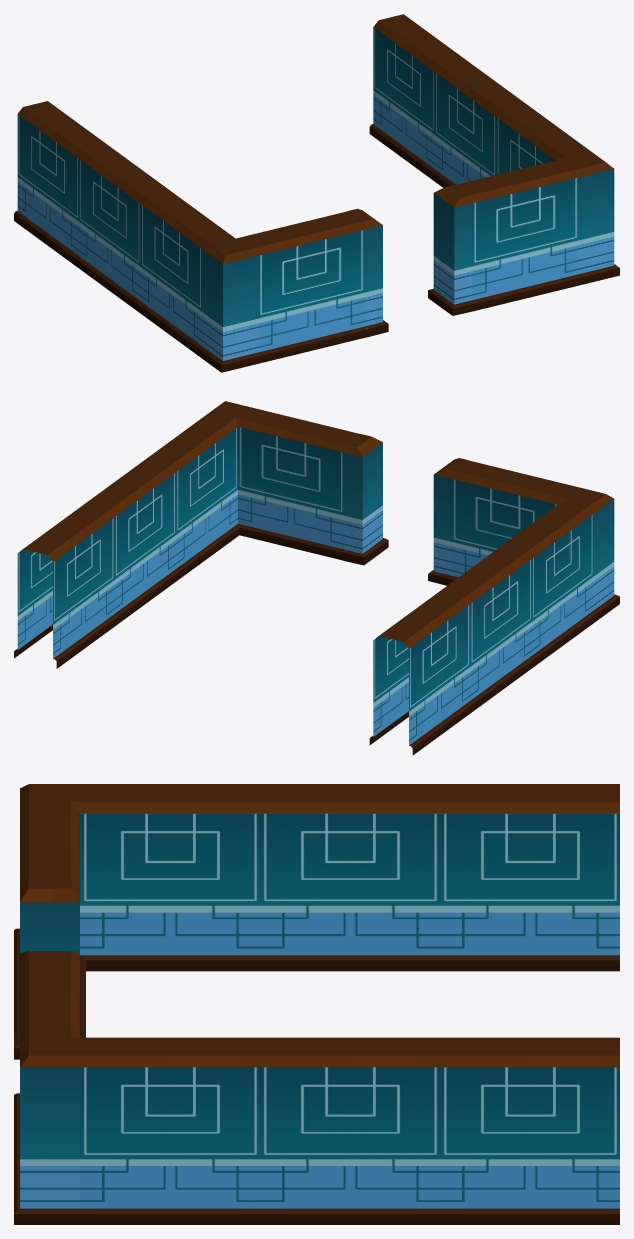
File: s1_KitchenWalls_v1.fbx
3 renders of one model, top to bottom at view 1: azimuth 30°, elevation 25°; view 2: azimuth 150°, elevation 25°; view 3: azimuth 270°, elevation 25°, orthographic. The views are drawn at different scales.
Parts seen in each view (by area): view 1: s1_KitchenWalls_v1; view 2: s1_KitchenWalls_v1; view 3: s1_KitchenWalls_v1.
Part boxes in pixels (x1=…): s1_KitchenWalls_v1: x1=14, y1=14, x2=619, y2=372; s1_KitchenWalls_v1: x1=14, y1=401, x2=619, y2=755; s1_KitchenWalls_v1: x1=14, y1=784, x2=619, y2=1224.
Bounding box in the file's own units: 1120 × 300 × 1010.
